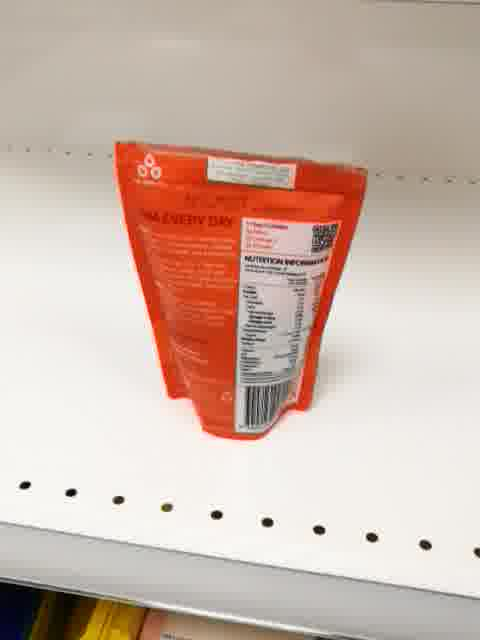whitechia: (111, 137, 371, 442)
